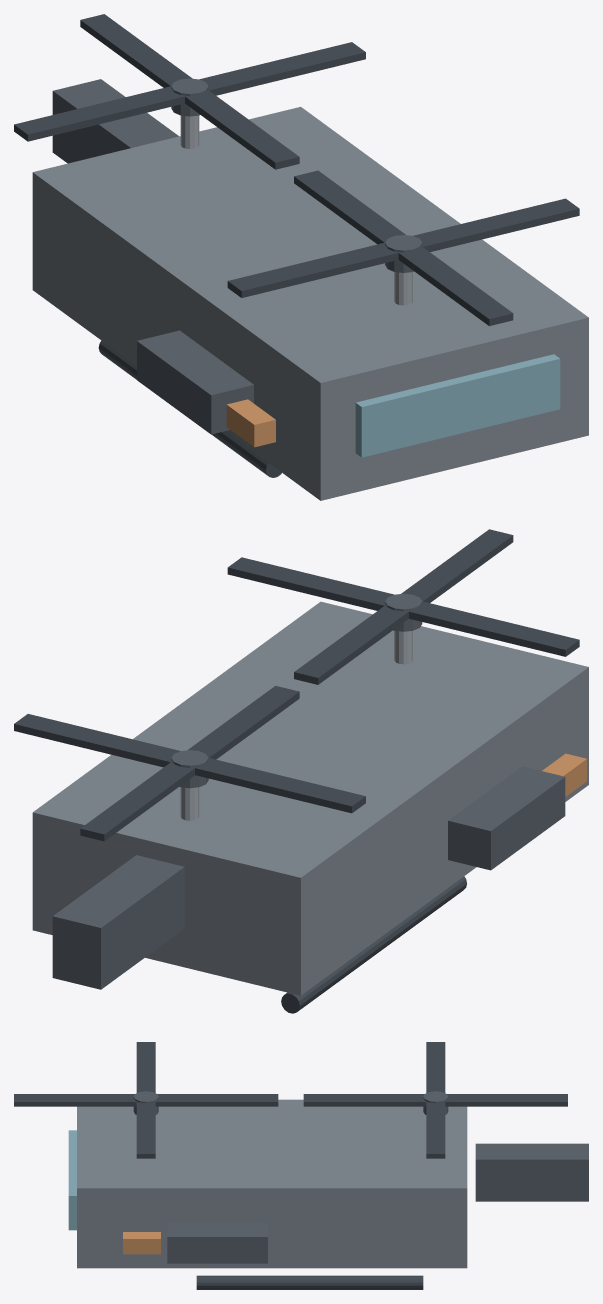
File: human_double_propeller_chopper.glb
3 views of the same model, one above another, from view 1: azimuth 30°, elevation 25°; view 2: azimuth 150°, elevation 25°; view 3: azimuth 270°, elevation 25° (orthographic). The views are drawn at different scales.
Parts seen in each view (by area): view 1: broad_body, cockpit_strip, side_gun_-1, front_rotor_blade_a, rear_rotor_blade_a, front_rotor_blade_b, rear_rotor_blade_b, tail_stub, side_flash_-1, skid_left, rear_rotor_hub, front_rotor_hub (+2 smaller); view 2: broad_body, tail_stub, side_gun_-1, front_rotor_blade_a, rear_rotor_blade_a, rear_rotor_blade_b, front_rotor_blade_b, skid_left, side_flash_-1, front_rotor_hub, rear_rotor_hub, rear_rotor_mast (+1 smaller); view 3: broad_body, tail_stub, side_gun_1, skid_right, rear_rotor_blade_b, front_rotor_blade_b, front_rotor_blade_a, rear_rotor_blade_a, cockpit_strip, side_flash_1.
Part boxes in pixels (bbox=[...]): broad_body: bbox=[32, 106, 588, 500]; cockpit_strip: bbox=[355, 354, 560, 457]; side_gun_-1: bbox=[137, 330, 253, 434]; front_rotor_blade_a: bbox=[227, 198, 579, 297]; rear_rotor_blade_a: bbox=[14, 42, 365, 141]; front_rotor_blade_b: bbox=[294, 170, 513, 326]; rear_rotor_blade_b: bbox=[80, 14, 299, 169]; tail_stub: bbox=[52, 79, 178, 163]; side_flash_-1: bbox=[226, 399, 275, 447]; skid_left: bbox=[98, 340, 281, 477]; rear_rotor_hub: bbox=[171, 78, 208, 116]; front_rotor_hub: bbox=[385, 235, 422, 272]; broad_body: bbox=[32, 601, 588, 995]; tail_stub: bbox=[52, 855, 184, 989]; side_gun_-1: bbox=[448, 766, 565, 870]; front_rotor_blade_a: bbox=[227, 557, 579, 656]; rear_rotor_blade_a: bbox=[14, 714, 365, 813]; rear_rotor_blade_b: bbox=[80, 685, 299, 841]; front_rotor_blade_b: bbox=[294, 529, 513, 684]; skid_left: bbox=[281, 876, 466, 1013]; side_flash_-1: bbox=[542, 753, 586, 796]; front_rotor_hub: bbox=[385, 593, 422, 631]; rear_rotor_hub: bbox=[171, 750, 208, 788]; rear_rotor_mast: bbox=[180, 787, 199, 820]; broad_body: bbox=[77, 1099, 467, 1268]; tail_stub: bbox=[475, 1143, 588, 1201]; side_gun_1: bbox=[167, 1222, 267, 1263]; skid_right: bbox=[196, 1275, 423, 1289]; rear_rotor_blade_b: bbox=[303, 1094, 567, 1106]; front_rotor_blade_b: bbox=[14, 1094, 278, 1106]; front_rotor_blade_a: bbox=[136, 1042, 155, 1158]; rear_rotor_blade_a: bbox=[426, 1042, 445, 1158]; cockpit_strip: bbox=[68, 1130, 76, 1230]; side_flash_1: bbox=[123, 1232, 160, 1254].
Size of the model in its own units: 1.32 by 0.8541 by 2.74.
